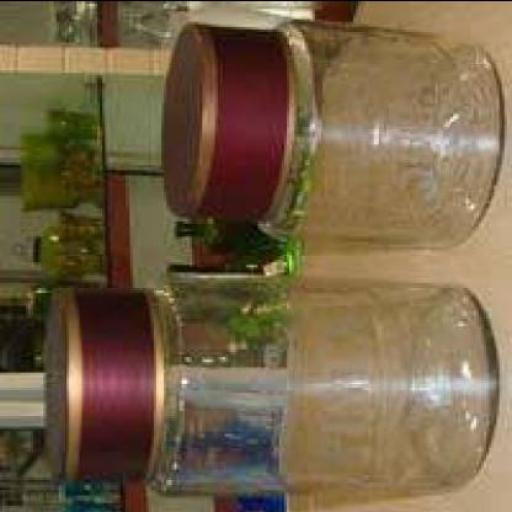glass: (146, 284, 499, 496), (253, 22, 497, 246), (118, 2, 307, 47), (166, 415, 292, 471), (166, 292, 292, 341), (161, 250, 297, 295), (11, 225, 94, 277), (16, 166, 100, 213), (166, 220, 264, 249), (18, 130, 89, 168), (20, 284, 74, 320), (46, 2, 88, 44), (43, 108, 95, 138), (56, 488, 115, 510)
plastic: (161, 26, 292, 223), (41, 289, 161, 481)
